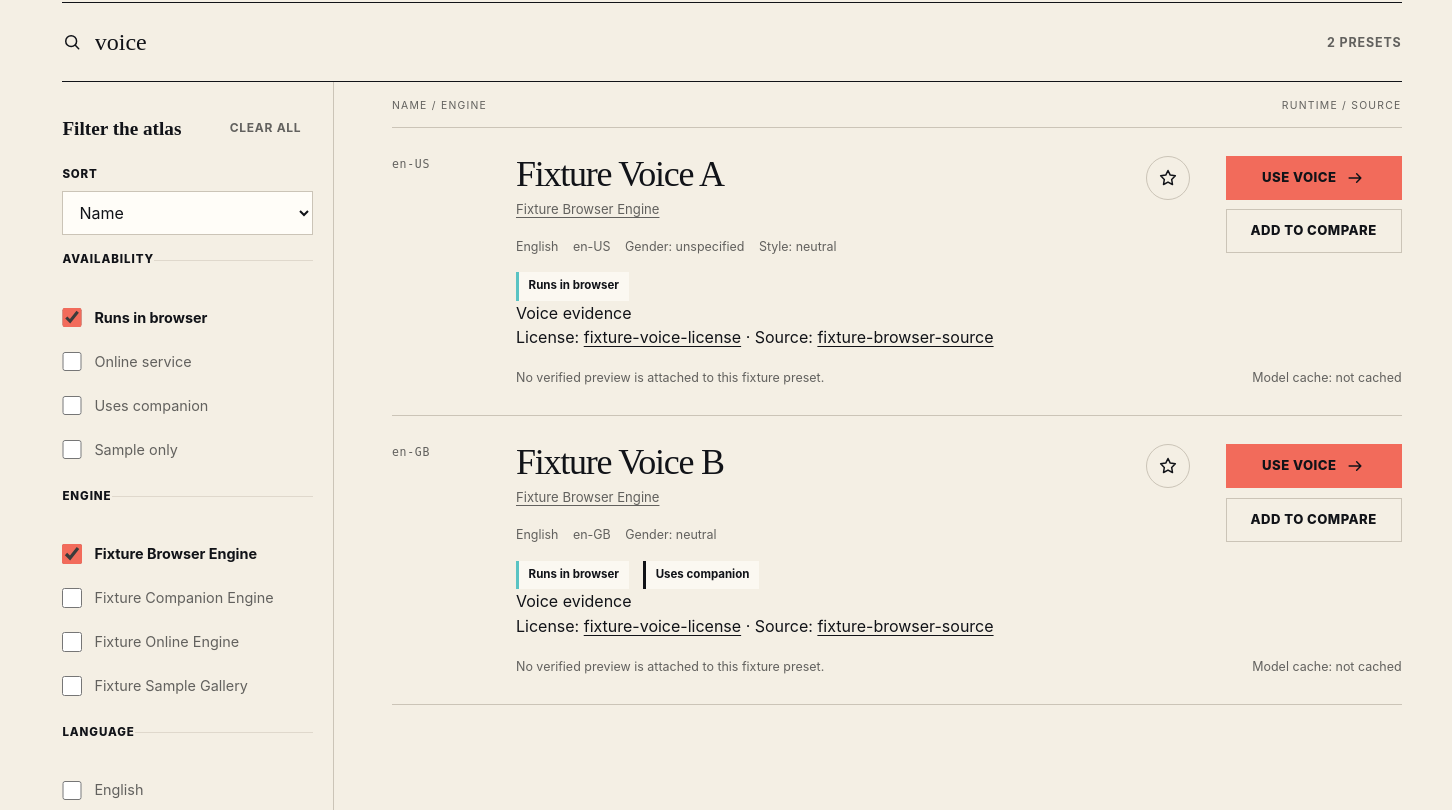
Scenario: voice explorer › restores filters from the URL and persists subsequent filter changes
This screenshot has width=1452, height=810.
(page scrolled)
Check: the search field named "Search voices" holds "voice", box [93,18,1311,66]
Check: the checkbox labelled "Runs in browser" is checked, box [62,308,82,327]
Click the checkbox labelled "Uses companion" at [72, 406], box [62,396,82,415]
(page scrolled)
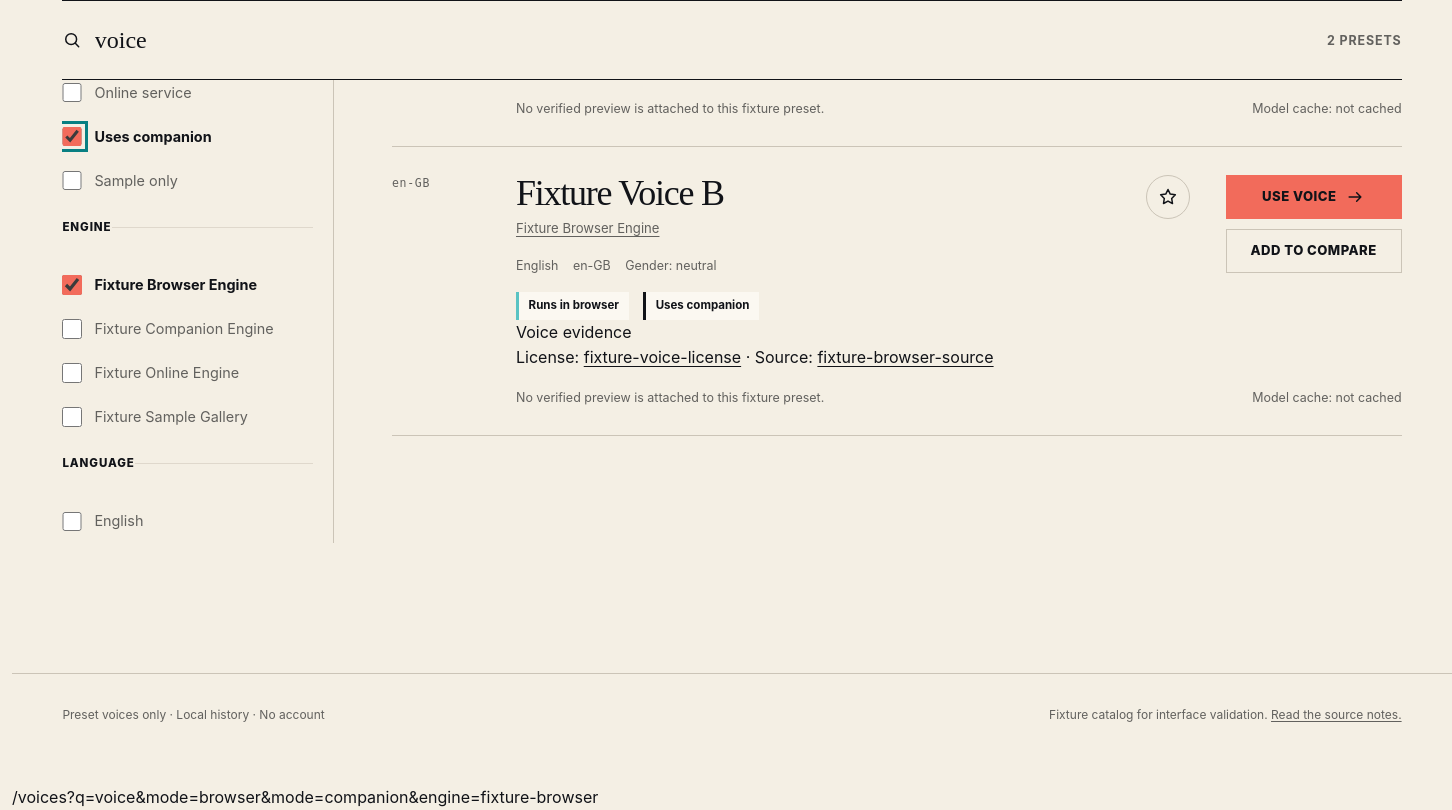
Check: the text with test id "location" shows "mode=browser", box [12,787,598,807]
Check: the text with test id "location" shows "mode=companion", box [12,787,598,807]
